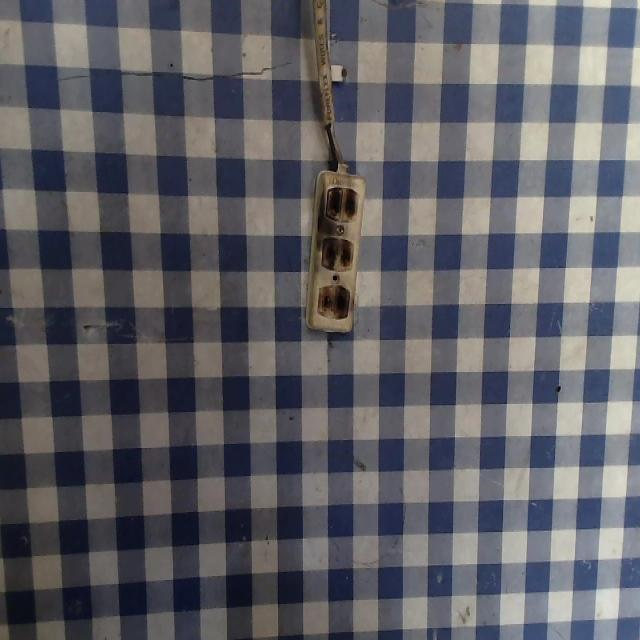-: (314, 227, 361, 274), (319, 184, 361, 229), (316, 275, 352, 325)
